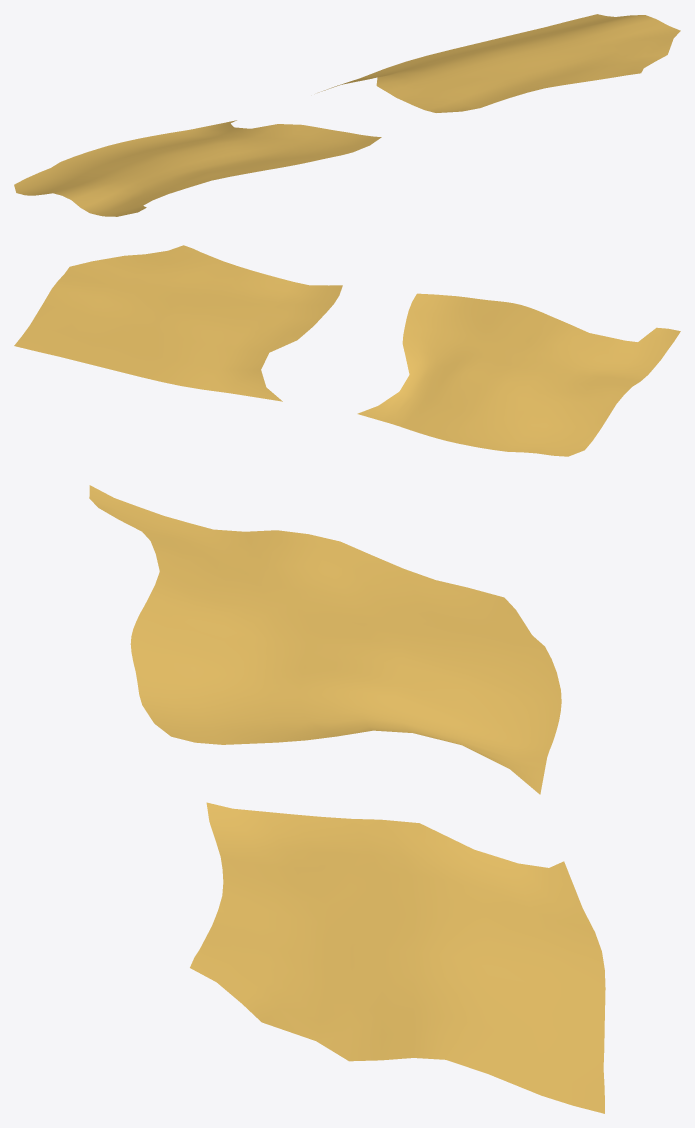
The model's file is Sand_1.fbx.
The picture shows the model from 3 angles, top to bottom: view 1: azimuth 30°, elevation 25°; view 2: azimuth 150°, elevation 25°; view 3: azimuth 270°, elevation 25°; orthographic projection. The views are drawn at different scales.
Visible parts, largest first — view 1: map.001; view 2: map.001; view 3: map.001.
Boxes of the visible parts, bbox=[...] form: map.001: bbox=[14, 14, 680, 216]; map.001: bbox=[14, 245, 680, 456]; map.001: bbox=[89, 485, 605, 1113].
Bounding box in the file's own units: 18591 × 1685 × 7602.
